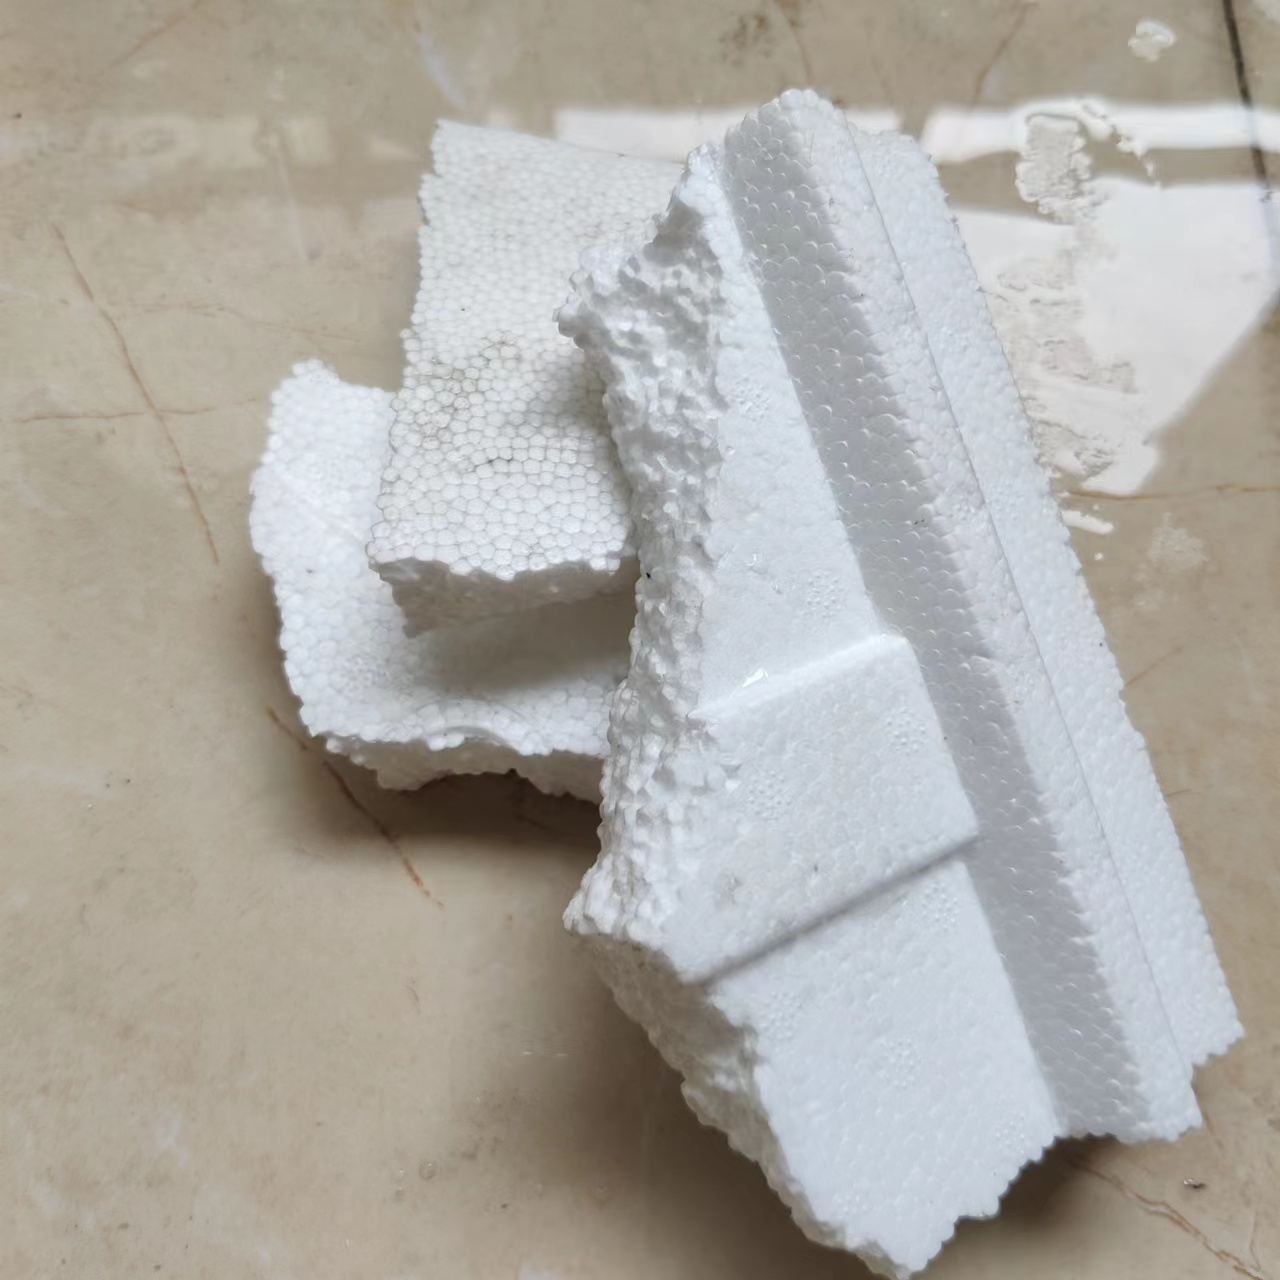5/可回收垃圾/泡沫: (553, 86, 1247, 1280), (247, 360, 636, 804), (365, 120, 635, 635)
